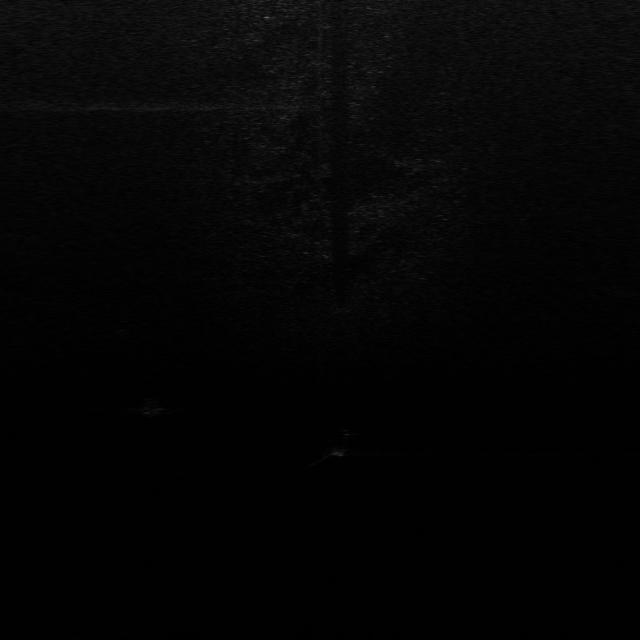ball: (133, 399, 167, 417)
circle cage: (107, 320, 133, 336)
tyre: (327, 426, 349, 456)
